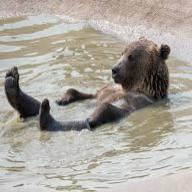animals: (114, 39, 170, 103)
